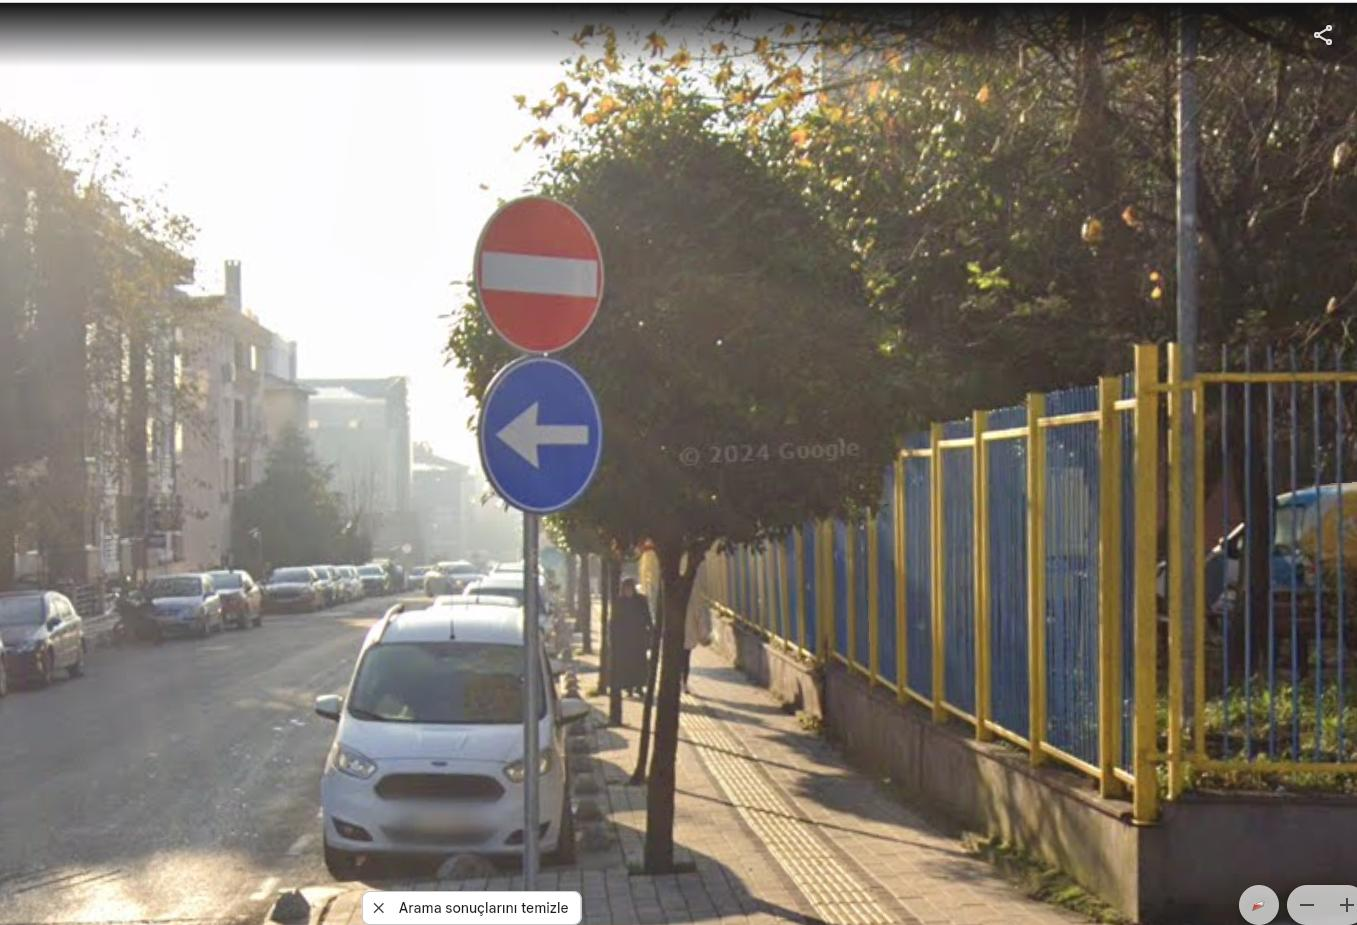turnleft: (466, 353, 616, 526)
